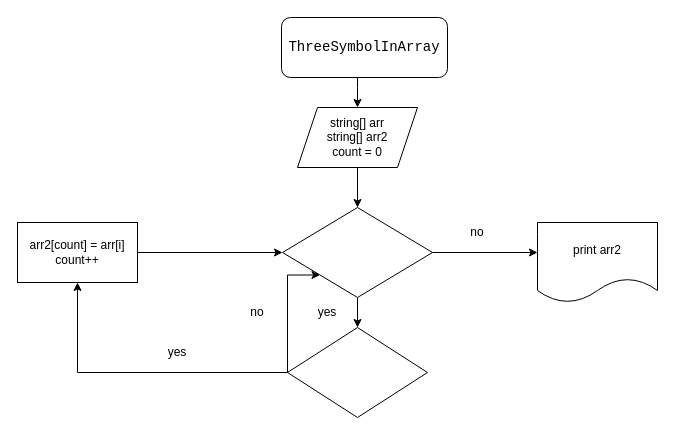
This 675x435 diagram has some shape labels left out. Each missing label, with the centre of its shape:
for(int i = 0; i < arr.Length; i++): the point at 357,252
if(arr[i].Length) <= 3: the point at 357,372
